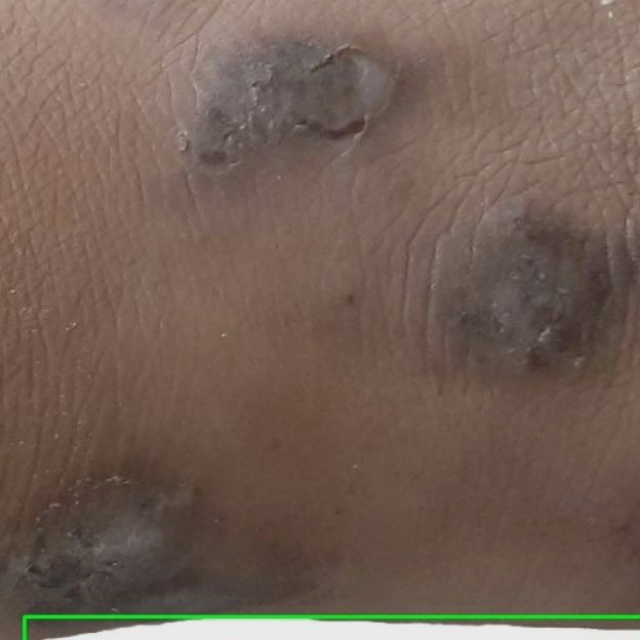Contact Dermatitis: (24, 616, 639, 639)
